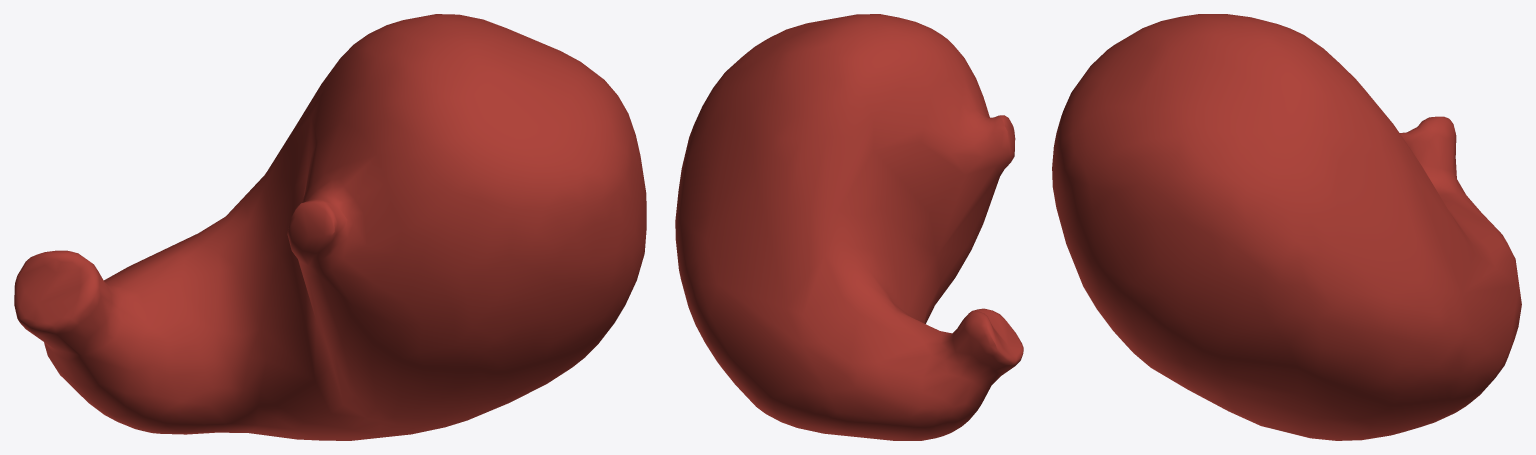
The model's file is stomach_bodyparts3d_v4.glb.
3 views of the same model, side by side, from view 1: azimuth 30°, elevation 25°; view 2: azimuth 150°, elevation 25°; view 3: azimuth 270°, elevation 25° (orthographic). The views are drawn at different scales.
Parts seen in each view (by area): view 1: BodyParts3D_Stomach; view 2: BodyParts3D_Stomach; view 3: BodyParts3D_Stomach.
Part boxes in pixels (x1,y1,x2,y2): BodyParts3D_Stomach: [14, 14, 646, 440]; BodyParts3D_Stomach: [675, 14, 1023, 440]; BodyParts3D_Stomach: [1052, 14, 1521, 440].
Size of the model in its own units: 134 by 113 by 117.
